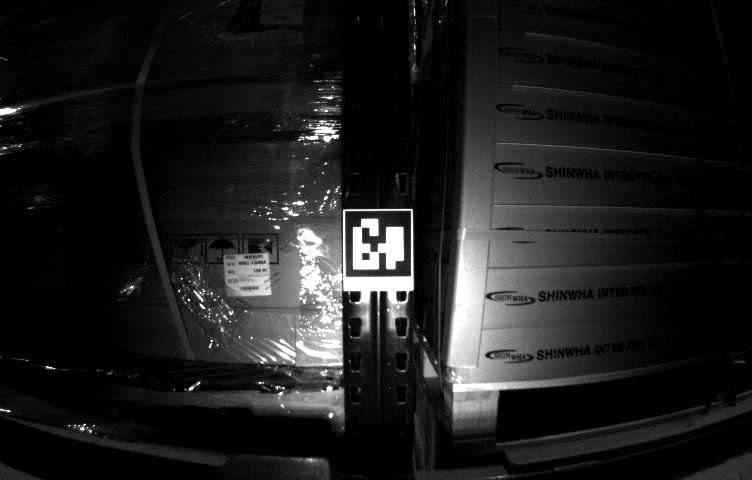True Barcode: (222, 252, 273, 296)
